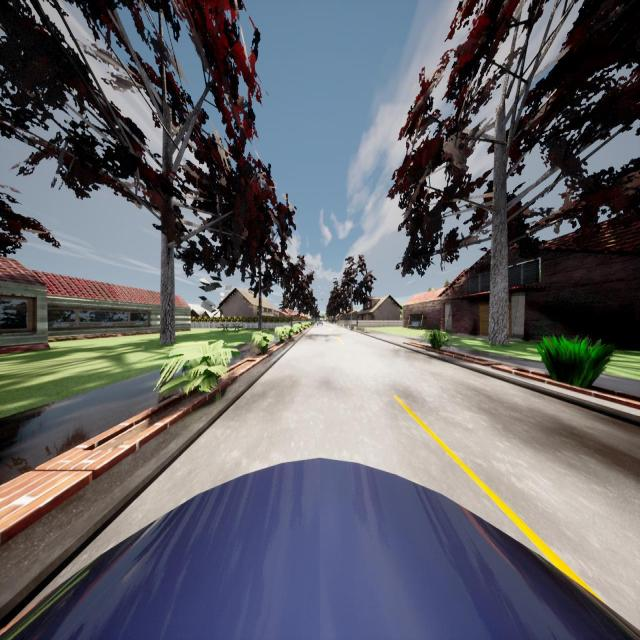Vehicle: (1, 455, 640, 640), (317, 319, 323, 326)
